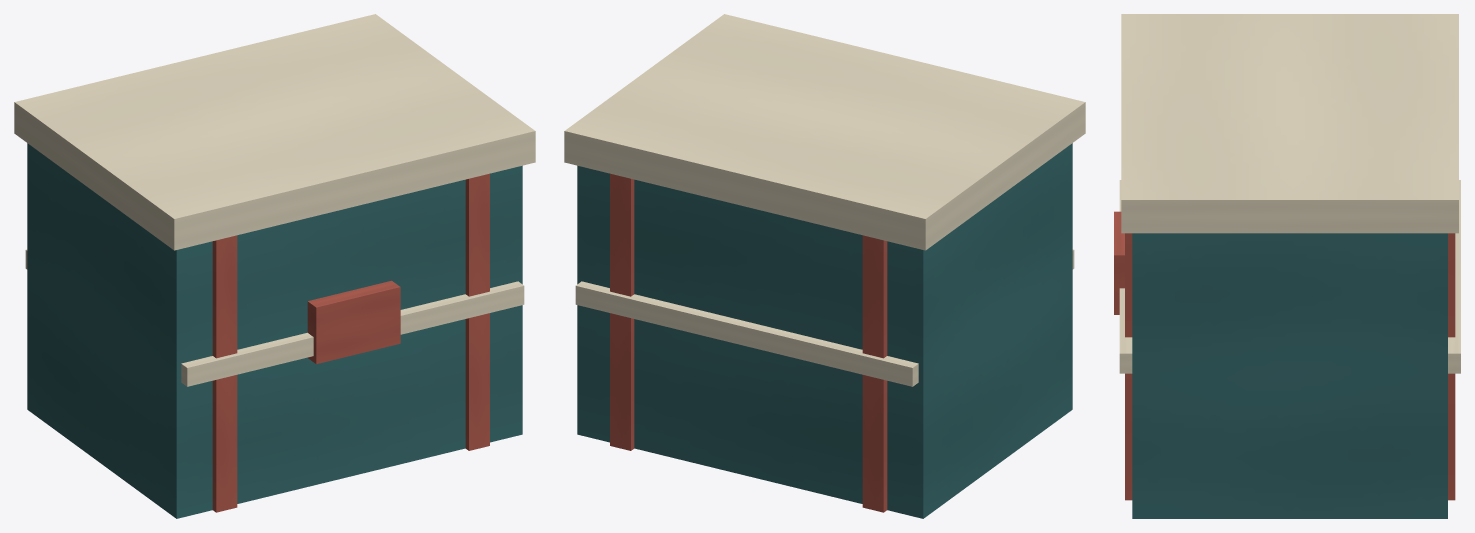
Rendered from atlas100-porcelain-util02.glb.
3 renders of one model, left to right at view 1: azimuth 30°, elevation 25°; view 2: azimuth 150°, elevation 25°; view 3: azimuth 270°, elevation 25°, orthographic. The views are drawn at different scales.
Parts seen in each view (by area): view 1: atlas100-porcelain-util02:part-000, atlas100-porcelain-util02:part-005, atlas100-porcelain-util02:part-001, atlas100-porcelain-util02:part-004, atlas100-porcelain-util02:part-002, atlas100-porcelain-util02:part-006; view 2: atlas100-porcelain-util02:part-000, atlas100-porcelain-util02:part-005, atlas100-porcelain-util02:part-003, atlas100-porcelain-util02:part-001, atlas100-porcelain-util02:part-002; view 3: atlas100-porcelain-util02:part-000, atlas100-porcelain-util02:part-005, atlas100-porcelain-util02:part-002, atlas100-porcelain-util02:part-003, atlas100-porcelain-util02:part-006, atlas100-porcelain-util02:part-004.
Boxes of the visible parts, x1=… form: atlas100-porcelain-util02:part-000: x1=27, y1=143, x2=522, y2=518; atlas100-porcelain-util02:part-005: x1=14, y1=14, x2=535, y2=250; atlas100-porcelain-util02:part-001: x1=212, y1=235, x2=237, y2=512; atlas100-porcelain-util02:part-004: x1=181, y1=281, x2=524, y2=386; atlas100-porcelain-util02:part-002: x1=465, y1=173, x2=489, y2=450; atlas100-porcelain-util02:part-006: x1=307, y1=280, x2=400, y2=364; atlas100-porcelain-util02:part-000: x1=577, y1=143, x2=1072, y2=518; atlas100-porcelain-util02:part-005: x1=564, y1=14, x2=1085, y2=250; atlas100-porcelain-util02:part-003: x1=575, y1=281, x2=918, y2=386; atlas100-porcelain-util02:part-001: x1=862, y1=235, x2=887, y2=512; atlas100-porcelain-util02:part-002: x1=610, y1=173, x2=634, y2=450; atlas100-porcelain-util02:part-000: x1=1132, y1=233, x2=1447, y2=518; atlas100-porcelain-util02:part-005: x1=1121, y1=14, x2=1458, y2=233; atlas100-porcelain-util02:part-002: x1=1125, y1=233, x2=1455, y2=500; atlas100-porcelain-util02:part-003: x1=1448, y1=180, x2=1460, y2=373; atlas100-porcelain-util02:part-006: x1=1114, y1=211, x2=1124, y2=314; atlas100-porcelain-util02:part-004: x1=1119, y1=180, x2=1132, y2=373.
Bounding box in the file's own units: 1.37 × 1.1 × 1.08.
3 materials, 3 textured.
